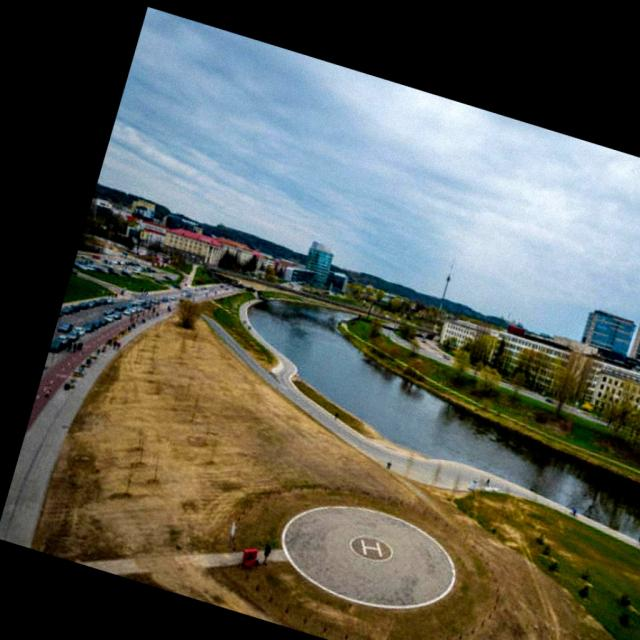helipad: (346, 530, 396, 564)
